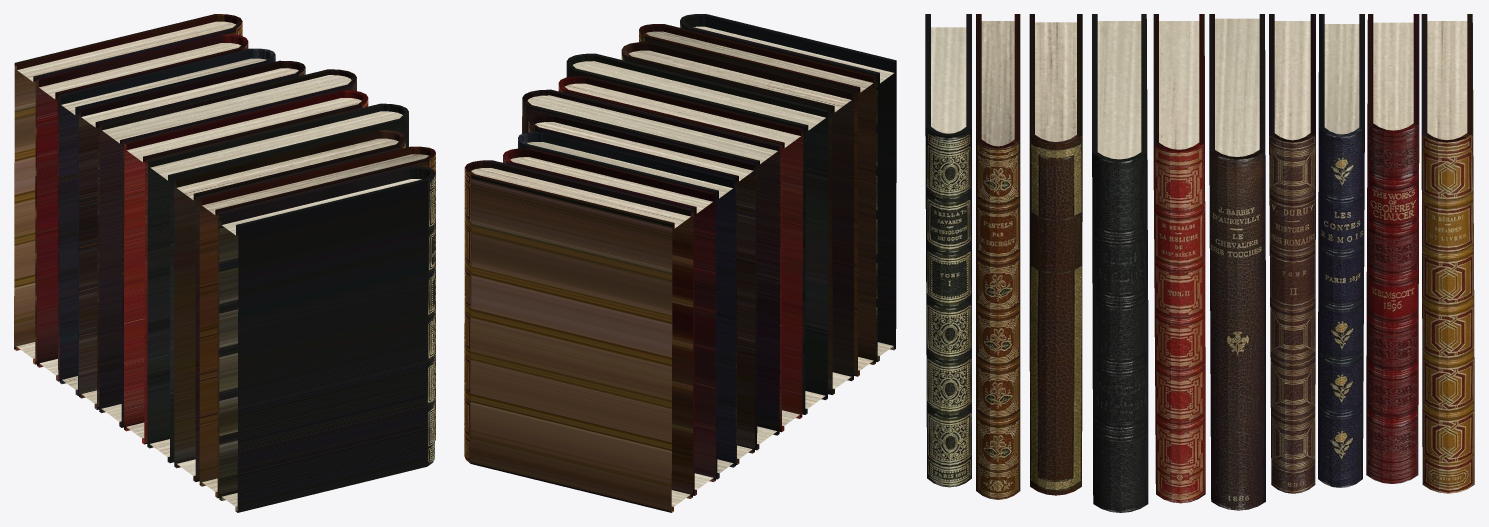
Rendered from BooksGroup06.fbx.
3 views of the same model, side by side, from view 1: azimuth 30°, elevation 25°; view 2: azimuth 150°, elevation 25°; view 3: azimuth 270°, elevation 25° (orthographic). The views are drawn at different scales.
Parts seen in each view (by area): view 1: Book_pack_1; view 2: Book_pack_1; view 3: Book_pack_1.
Boxes of the visible parts, x1,y1,x2,y2 form: Book_pack_1: (14,14,435,512); Book_pack_1: (464,14,896,512); Book_pack_1: (925,14,1474,512).
Size of the model in its own units: 24.69 by 27.34 by 38.75.
Materials: 2 (2 with a texture image).
